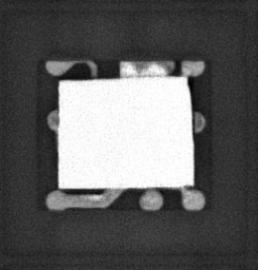DIE_BROKEN: (186, 74, 195, 103)
